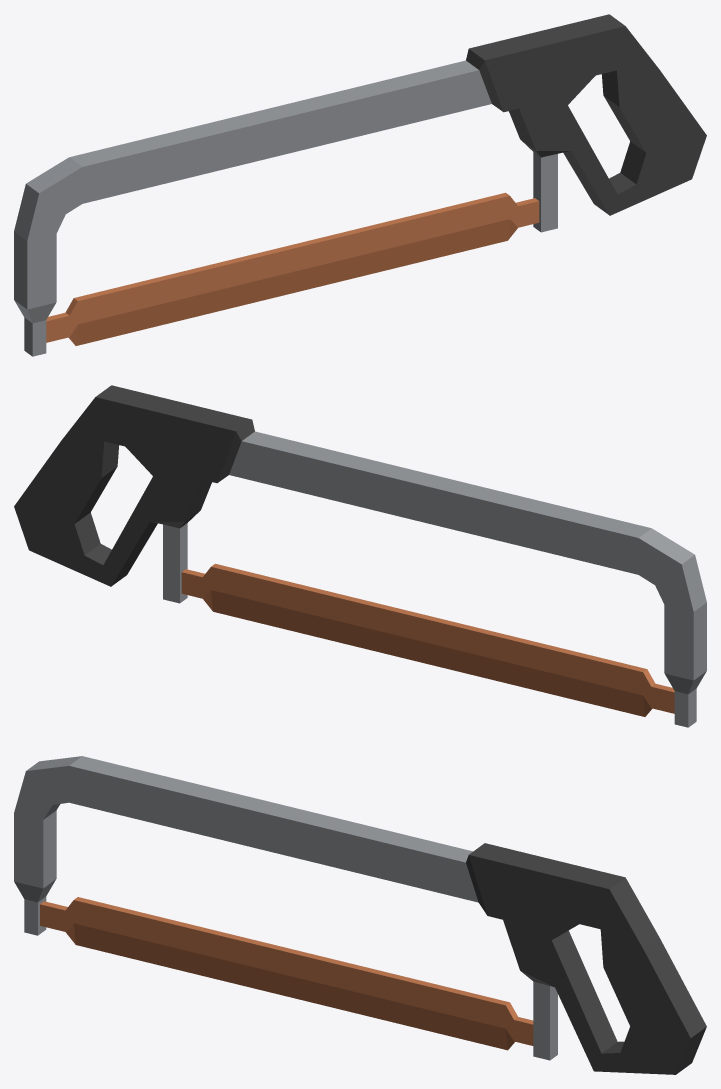
Rendered from SM_Item_Hacksaw_02.fbx.
The picture shows the model from 3 angles, top to bottom: view 1: azimuth 30°, elevation 25°; view 2: azimuth 150°, elevation 25°; view 3: azimuth 330°, elevation 25°; orthographic projection.
Visible parts, largest first — view 1: SM_Item_Hacksaw_02; view 2: SM_Item_Hacksaw_02; view 3: SM_Item_Hacksaw_02.
Part boxes in pixels (x1,y1,x2,y2): SM_Item_Hacksaw_02: (14, 14, 706, 356); SM_Item_Hacksaw_02: (14, 385, 706, 727); SM_Item_Hacksaw_02: (14, 756, 706, 1074).
Bounding box in the file's own units: 82.17 × 22.44 × 3.39.
